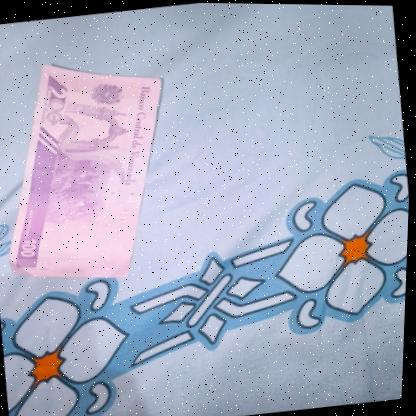vef_back: (0, 48, 188, 291)
